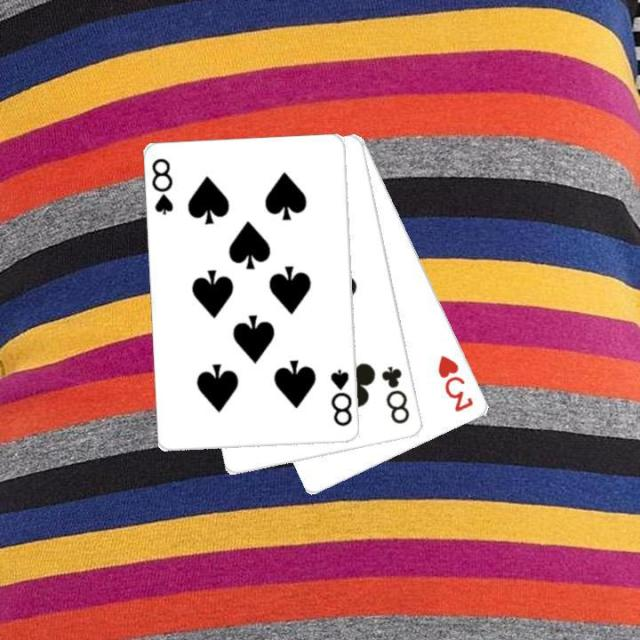3H: (434, 351, 476, 414)
8C: (378, 362, 412, 427)
8S: (148, 155, 176, 217), (327, 366, 354, 428)
